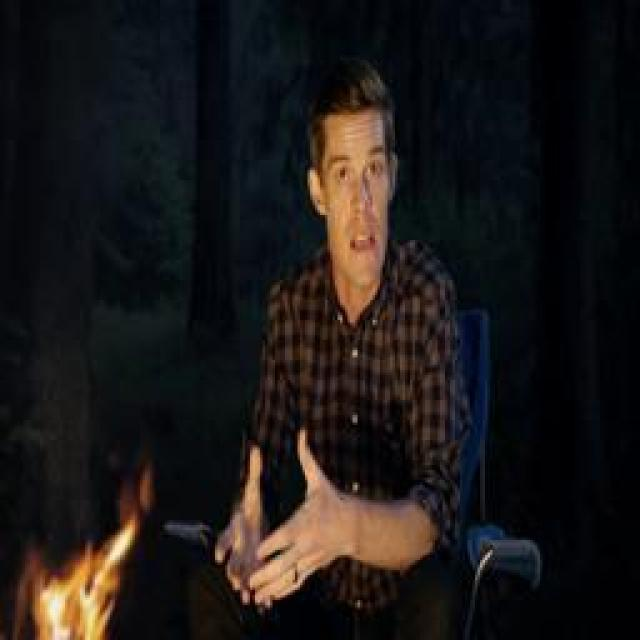Fire: (28, 467, 153, 640)
